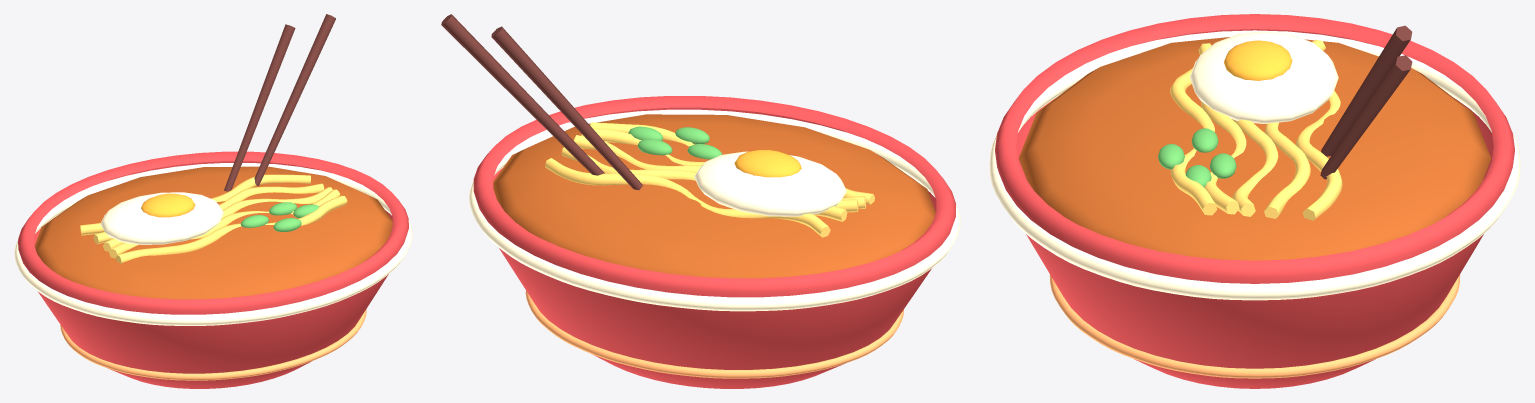
The model's file is ramen_crown.glb.
3 renders of one model, left to right at view 1: azimuth 30°, elevation 25°; view 2: azimuth 150°, elevation 25°; view 3: azimuth 270°, elevation 25°, orthographic. The views are drawn at different scales.
Parts seen in each view (by area): view 1: Midnight Ramen; view 2: Midnight Ramen; view 3: Midnight Ramen.
Part boxes in pixels (x1,y1,x2,y2): Midnight Ramen: (14,14,412,388); Midnight Ramen: (441,14,960,388); Midnight Ramen: (989,14,1520,388).
Bounding box in the file's own units: 1 × 0.6872 × 0.8657.
